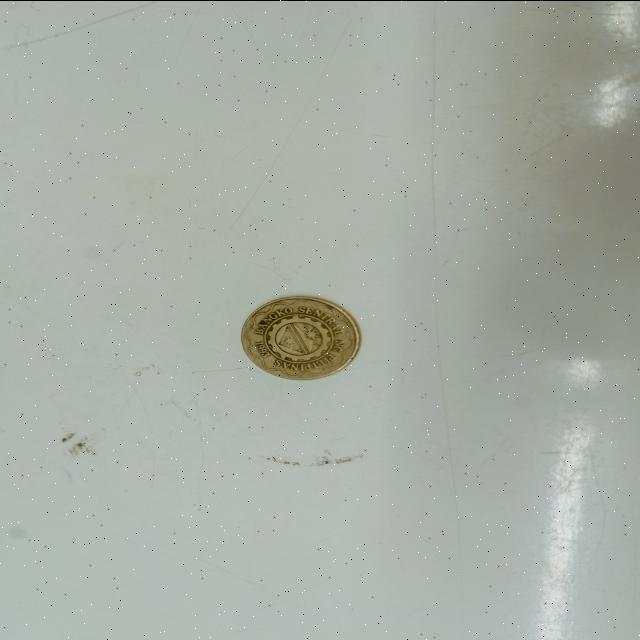5 peso-old: (234, 281, 366, 392)
